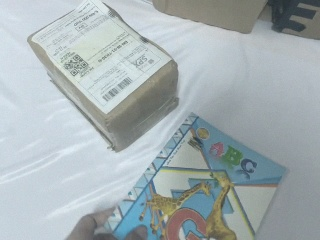book: (87, 108, 290, 240)
box: (26, 1, 181, 154), (147, 1, 274, 34), (270, 1, 320, 42)
